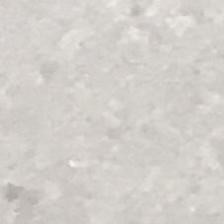Non_Crack: (4, 30, 218, 177)
